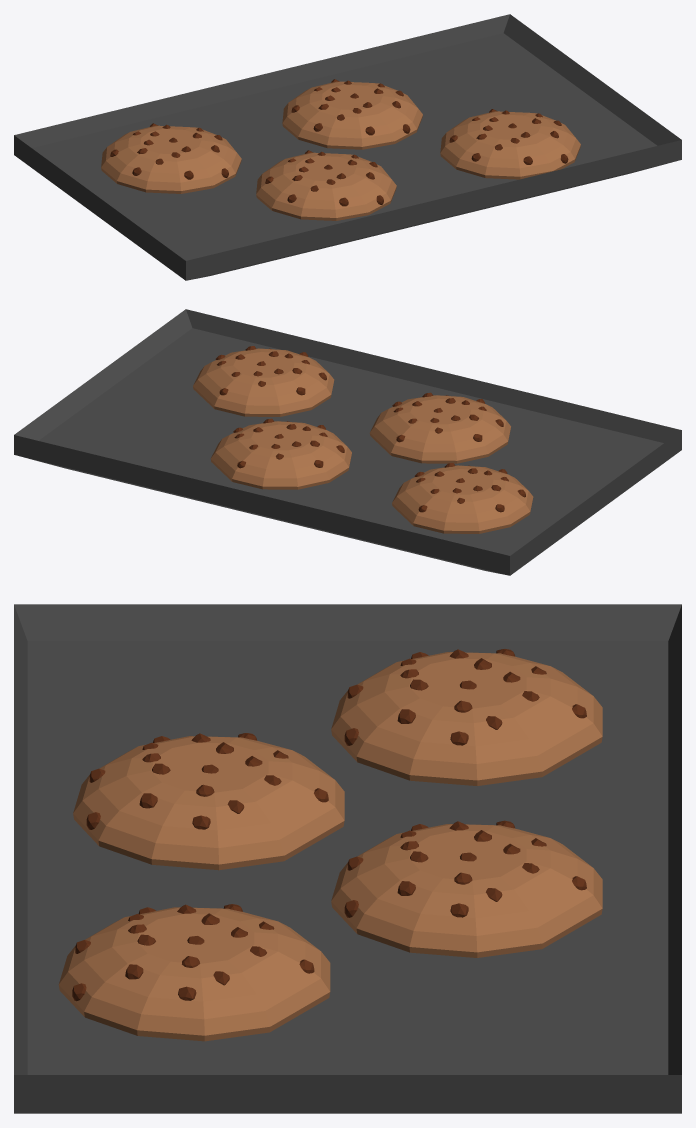
Rendered from bakedMilkCookieTray.fbx.
The picture shows the model from 3 angles, top to bottom: view 1: azimuth 30°, elevation 25°; view 2: azimuth 150°, elevation 25°; view 3: azimuth 270°, elevation 25°; orthographic projection. The views are drawn at different scales.
Visible parts, largest first — view 1: Cube, Icosphere.005, Icosphere.003, Icosphere.001, Icosphere.007; view 2: Cube, Icosphere.005, Icosphere.003, Icosphere.007, Icosphere.001; view 3: Cube, Icosphere.007, Icosphere.003, Icosphere.001, Icosphere.005.
Boxes of the visible parts, bbox=[...] form: Cube: bbox=[14, 14, 681, 280]; Icosphere.005: bbox=[282, 79, 422, 149]; Icosphere.003: bbox=[256, 150, 396, 220]; Icosphere.001: bbox=[101, 123, 241, 193]; Icosphere.007: bbox=[440, 109, 580, 179]; Cube: bbox=[14, 309, 681, 575]; Icosphere.005: bbox=[210, 418, 351, 489]; Icosphere.003: bbox=[369, 392, 510, 463]; Icosphere.007: bbox=[193, 346, 334, 416]; Icosphere.001: bbox=[392, 463, 533, 533]; Cube: bbox=[14, 604, 681, 1113]; Icosphere.007: bbox=[58, 904, 330, 1041]; Icosphere.003: bbox=[73, 733, 344, 870]; Icosphere.001: bbox=[331, 649, 602, 785]; Icosphere.005: bbox=[331, 820, 602, 957].
Size of the model in its own units: 236 by 21.1 by 142.
